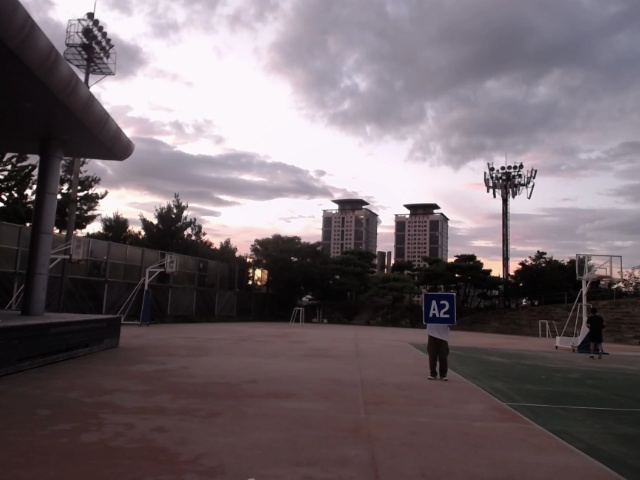delivery_a2: (423, 292, 456, 325)
